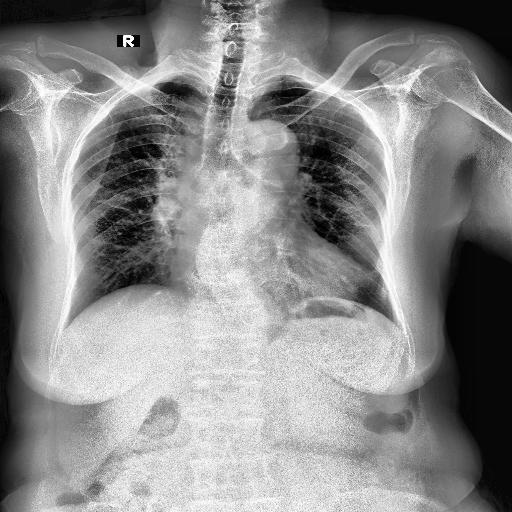0- Aortic enlargement: (231, 118, 301, 180), (228, 121, 300, 177), (234, 116, 301, 174)
11- Pleural thickening: (252, 75, 282, 103), (160, 72, 198, 78)
2- Calcification: (271, 129, 290, 149)
3- Cardiomegaly: (171, 240, 375, 310), (169, 254, 370, 314), (170, 255, 380, 307)
